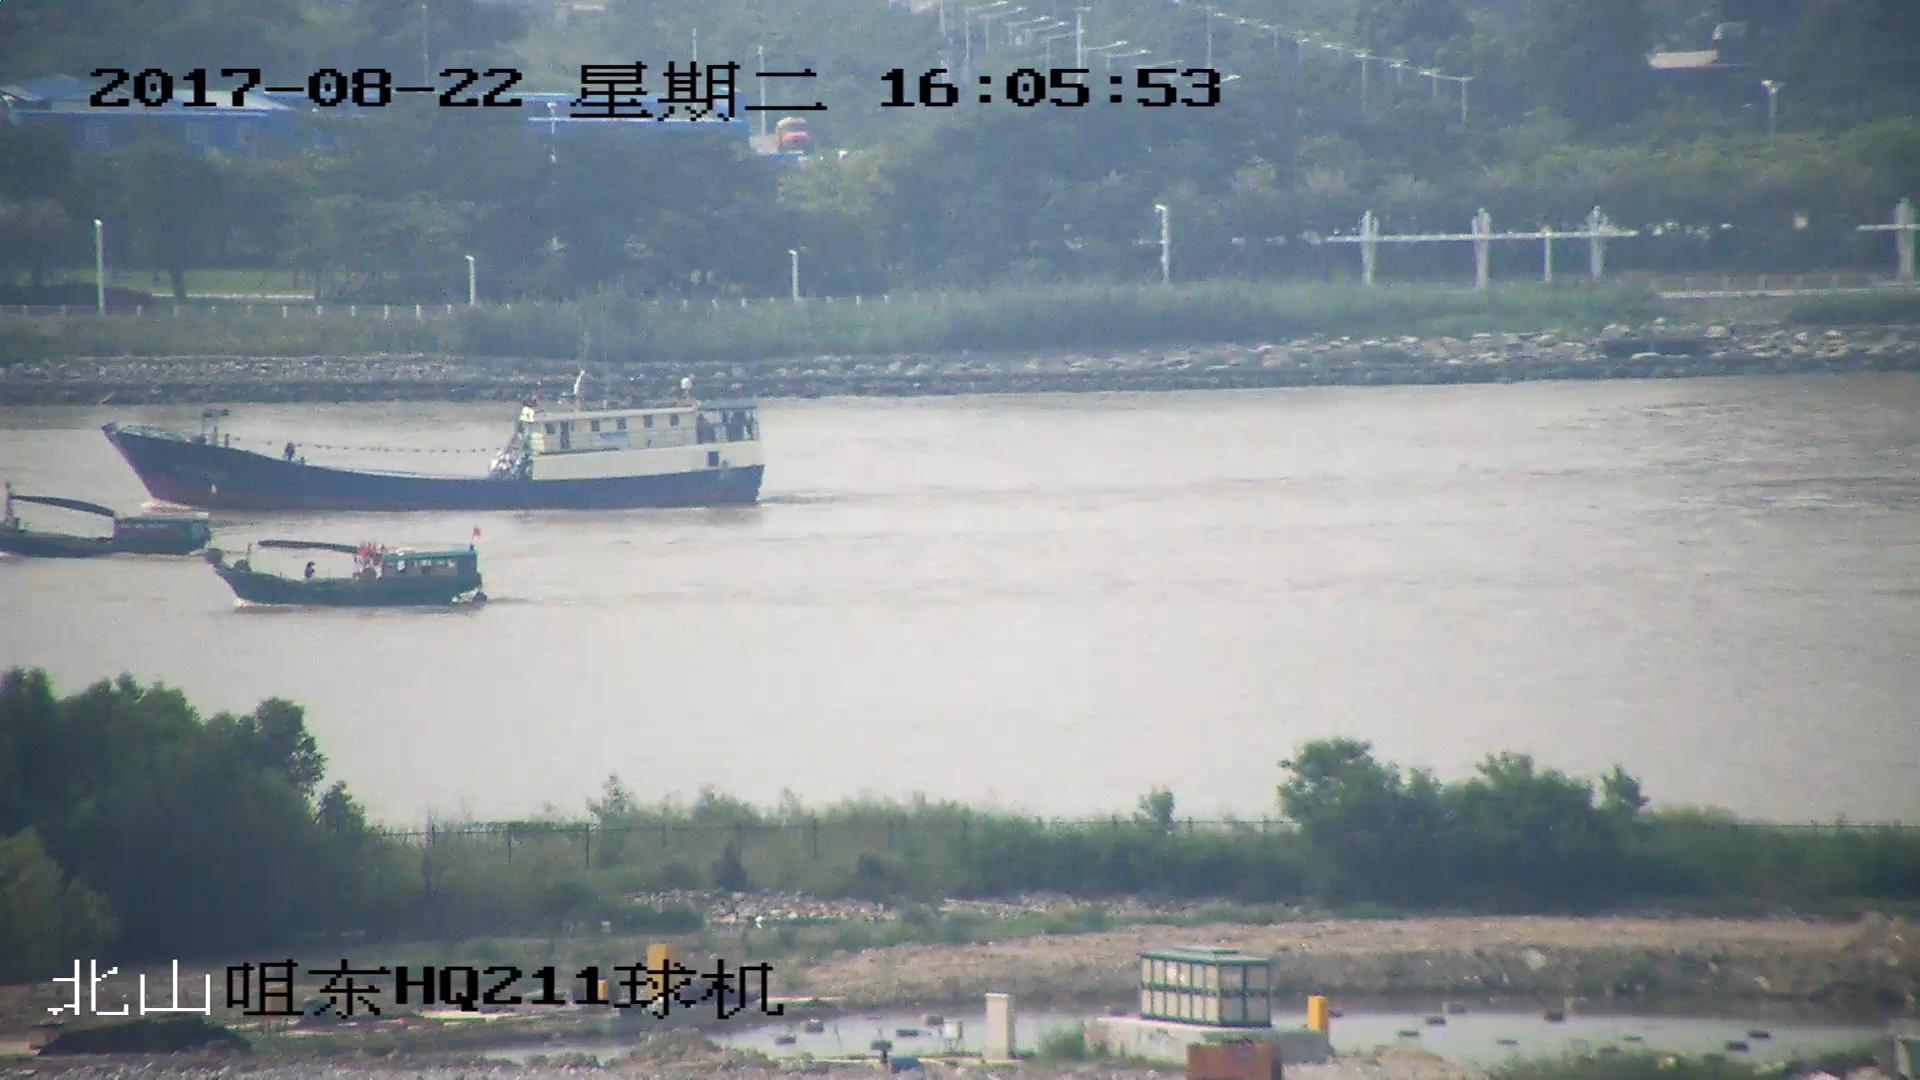fishing boat: (102, 356, 763, 516), (202, 541, 487, 612), (1, 488, 218, 563)
